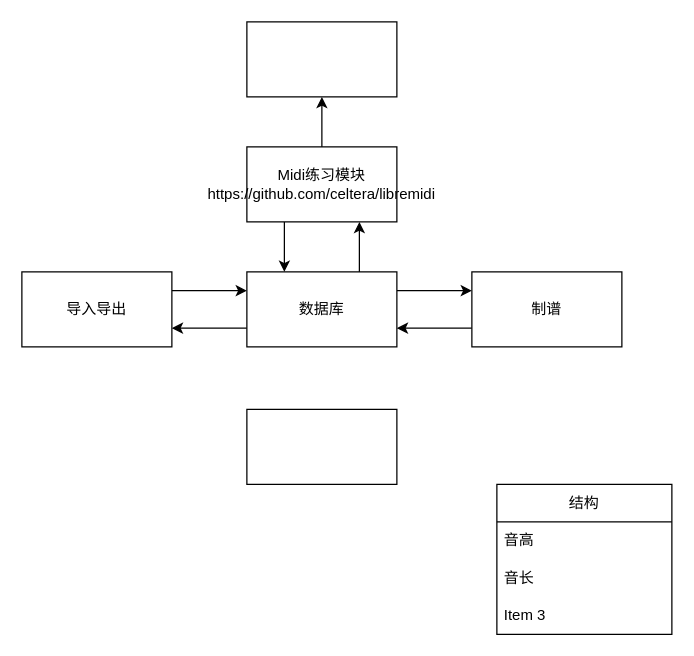
This 694x656 diagram has some shape labels left out. Here are the shapes that lost their labels. From the top down, the box of each, then its label:
(246, 21, 397, 97): 绘图模块
(246, 408, 397, 484): 同级
